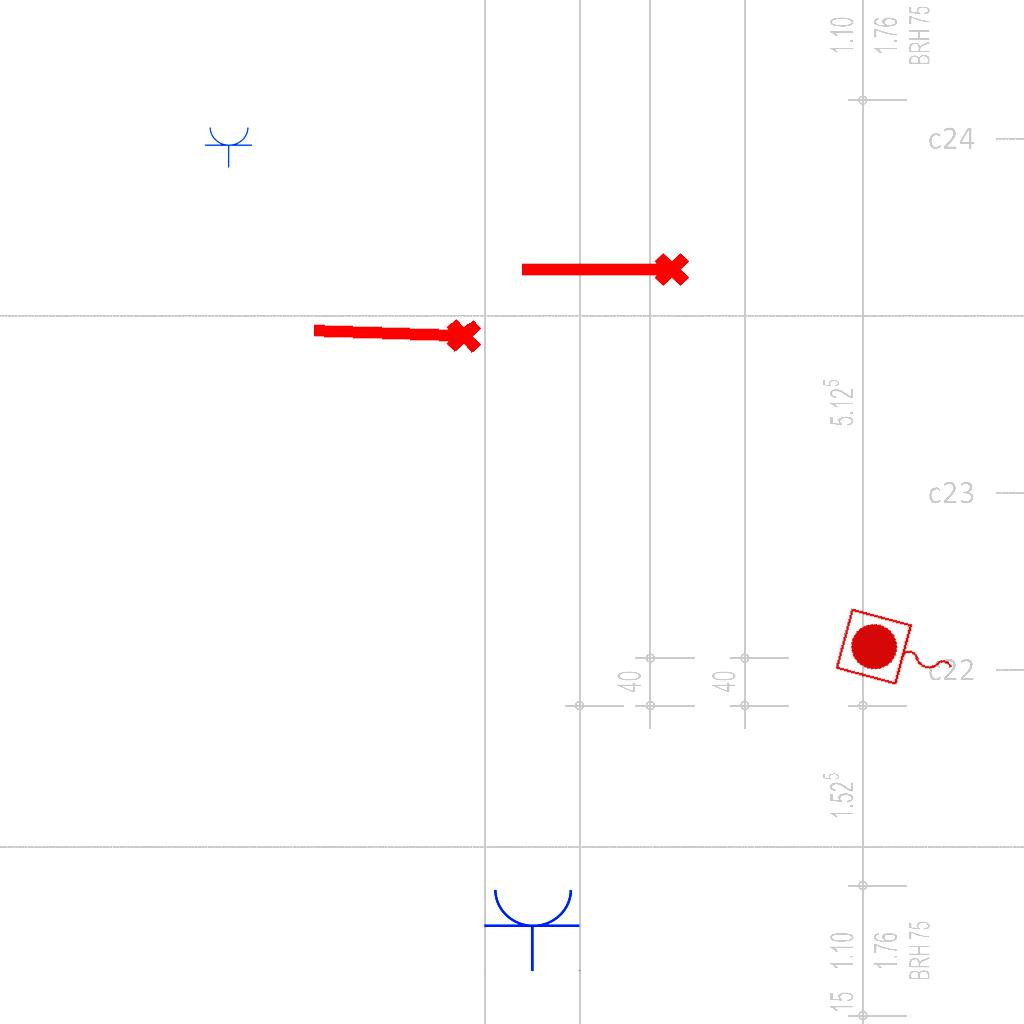ASR_Ansaugoeffnung: (307, 309, 485, 363), (516, 249, 692, 295)
Schukosteckdose_einfach: (483, 885, 583, 972), (204, 125, 254, 168)
Zugtaster: (829, 603, 967, 705)
